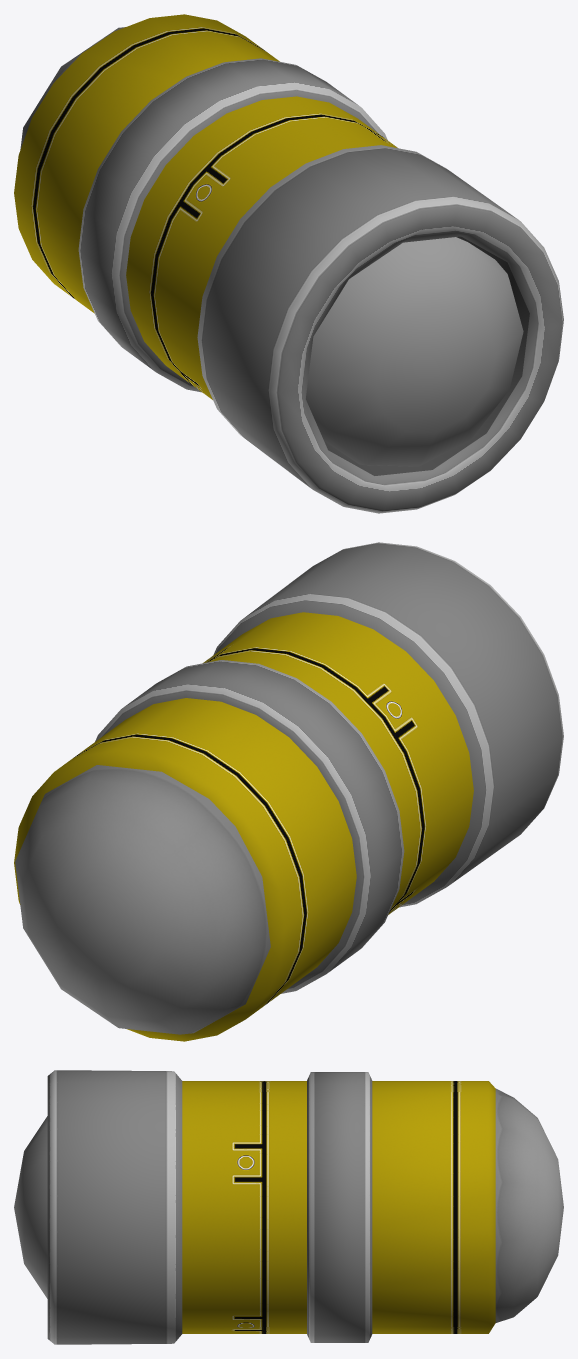
File: TR_eyeA.fbx
3 views of the same model, one above another, from view 1: azimuth 30°, elevation 25°; view 2: azimuth 150°, elevation 25°; view 3: azimuth 270°, elevation 25° (orthographic). The views are drawn at different scales.
Parts seen in each view (by area): view 1: TR_eyeA; view 2: TR_eyeA; view 3: TR_eyeA.
Boxes of the visible parts, x1,y1,x2,y2 form: TR_eyeA: [14, 14, 563, 513]; TR_eyeA: [14, 542, 563, 1041]; TR_eyeA: [14, 1070, 563, 1344].
Bounding box in the file's own units: 11.42 × 11.42 × 22.78.
